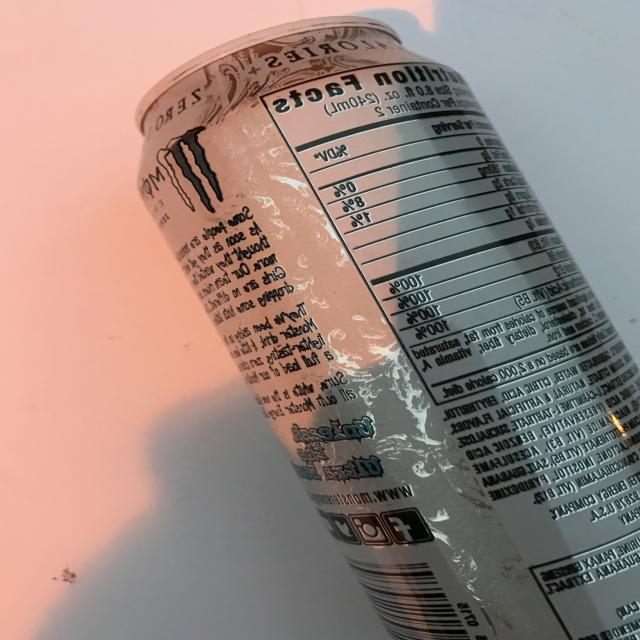metal: (134, 14, 640, 640)
